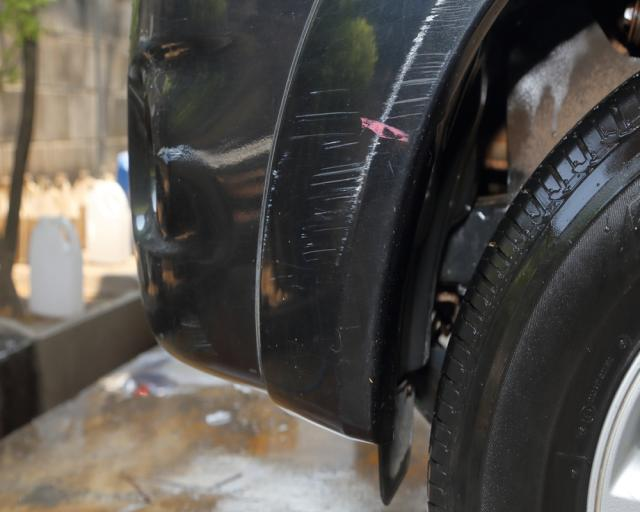dent: (145, 38, 234, 265)
scratch: (259, 0, 488, 273)
